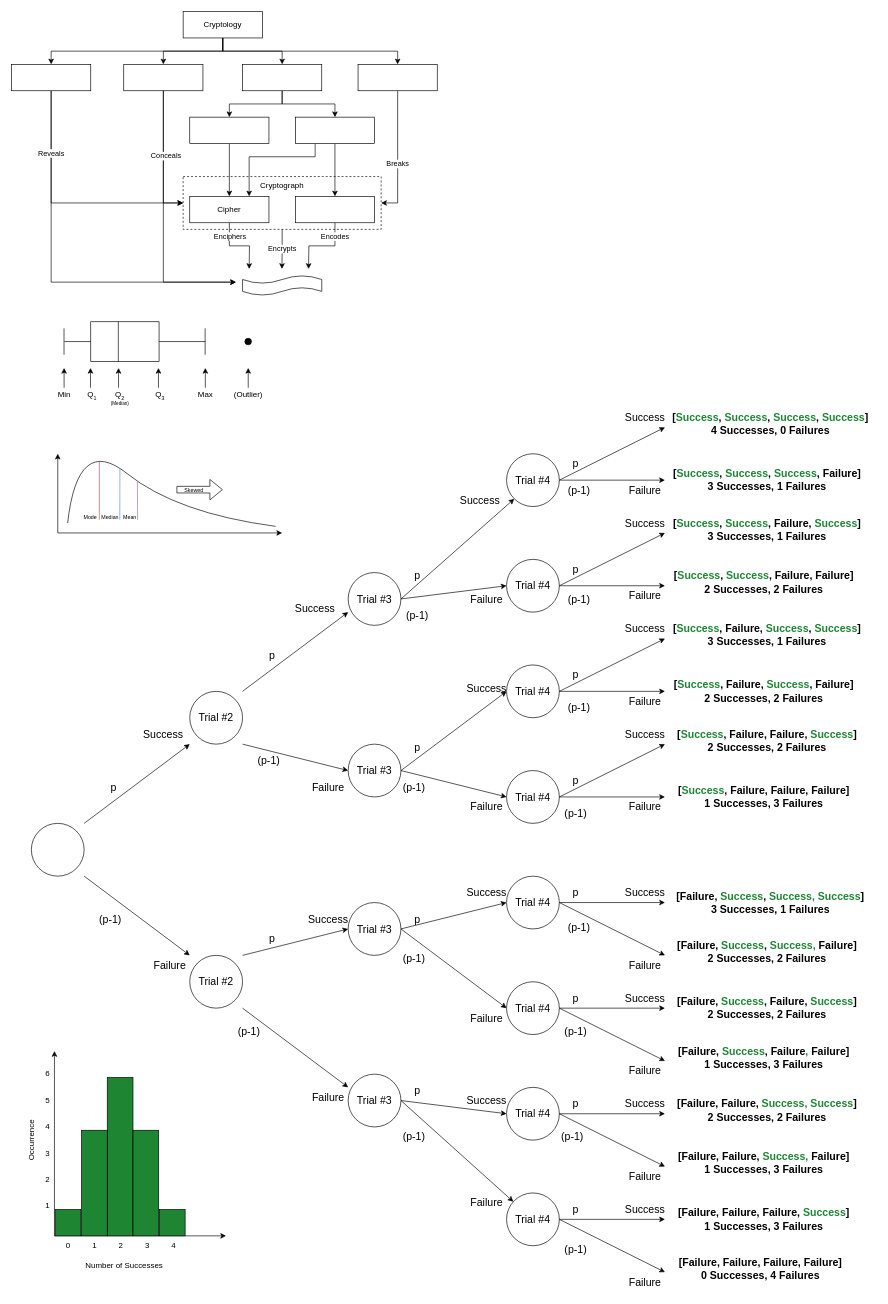
Some shapes in this 888 by 1304 pixel diagram are drawn without their labels. Each missing label, with the box of its shape:
Code: (295, 196, 375, 223)
Cryptanalysis: (357, 64, 437, 91)
Cryptography: (242, 64, 322, 91)
Information: (242, 275, 322, 295)
Steganalysis: (11, 64, 91, 91)
Steganography: (123, 64, 203, 91)
Substitution: (295, 116, 375, 144)
Transposition: (189, 116, 269, 144)
Trial #1: (31, 823, 84, 876)
